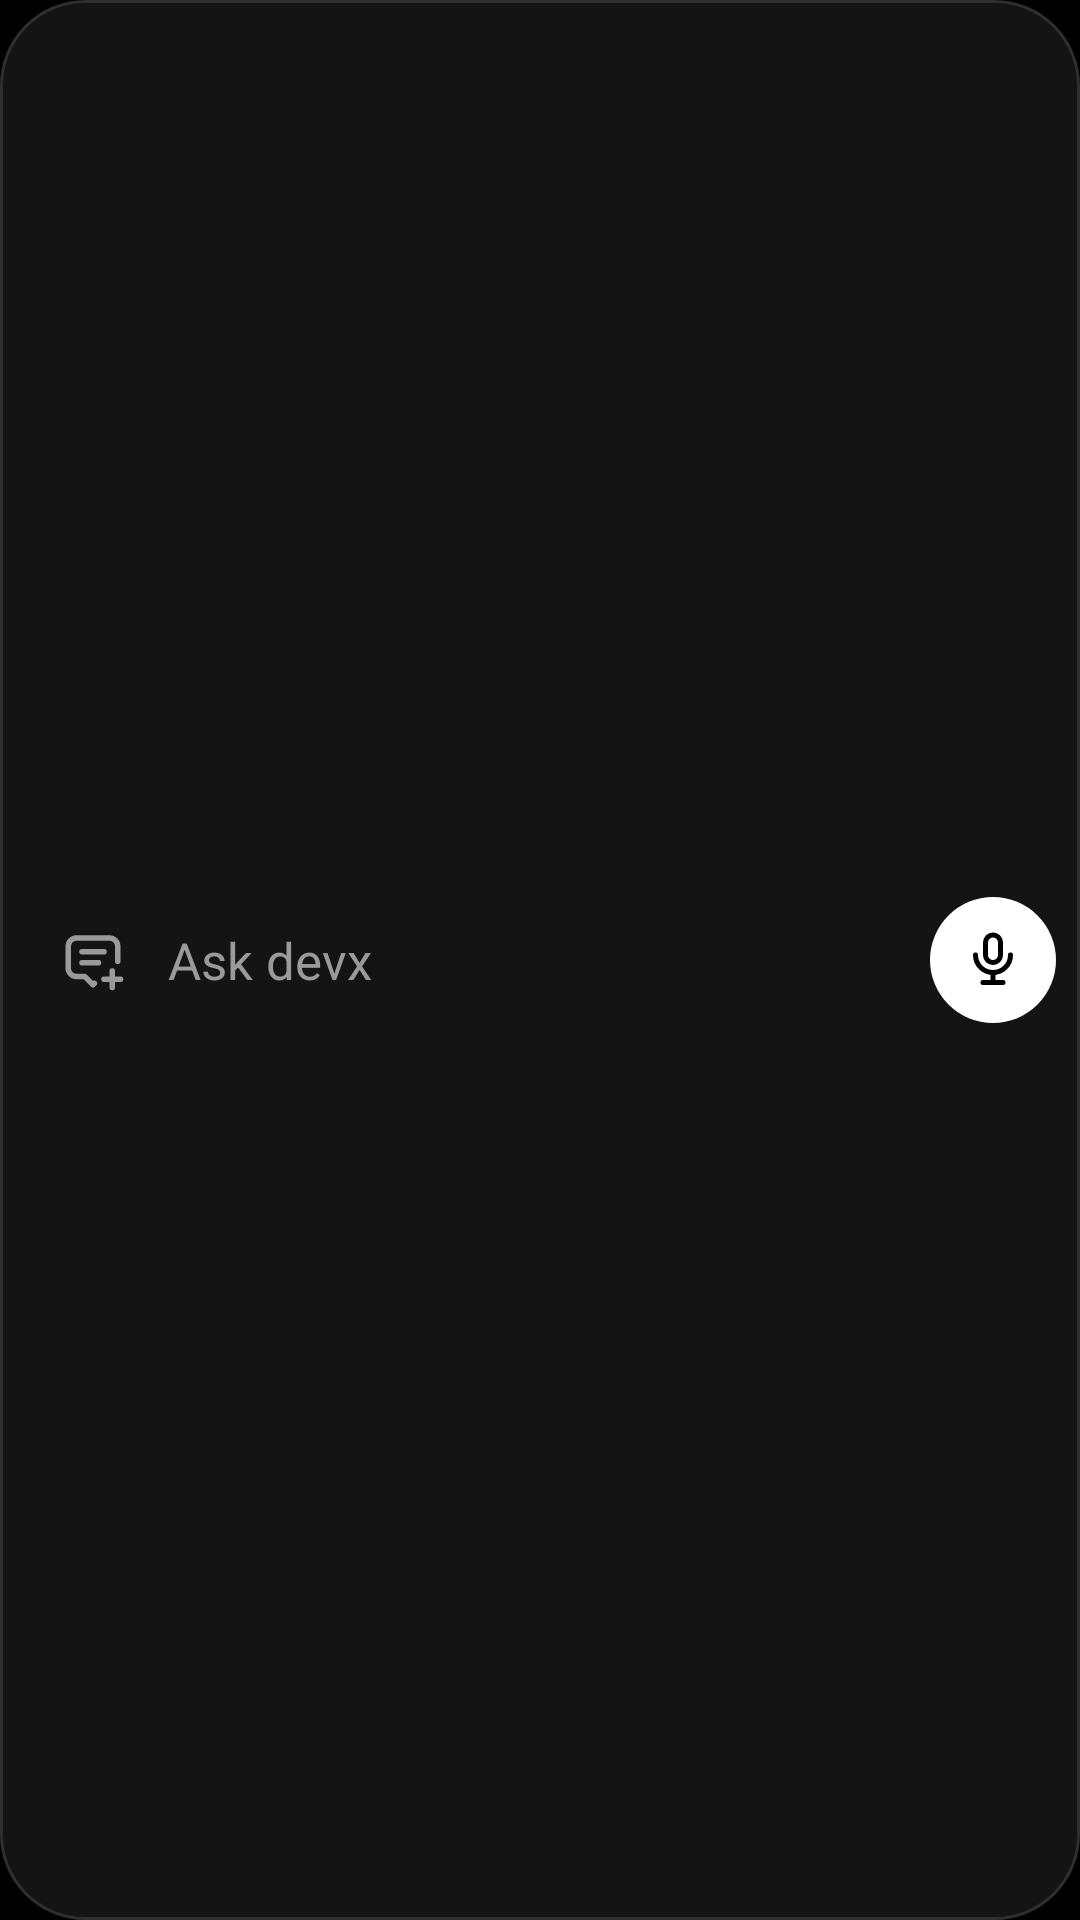

Screen size 1080×1920. Icon name, then its box in pixels as (x1, y1, x2, y2):
chat plus: (65, 935, 124, 991)
microphone: (973, 932, 1013, 985)
